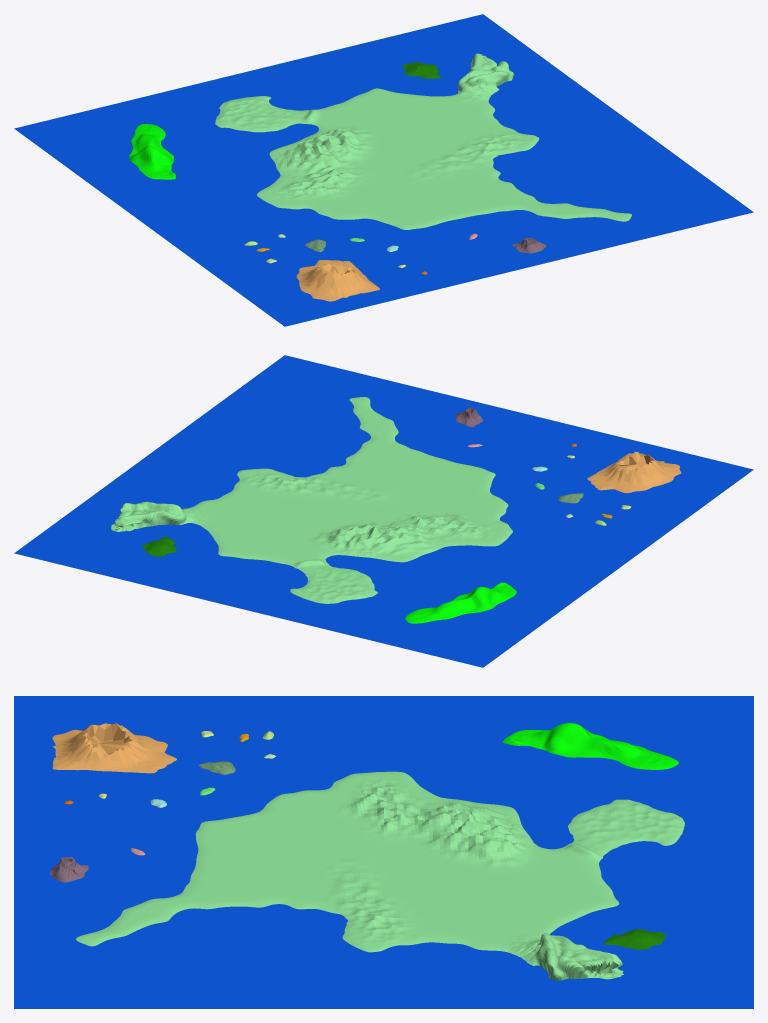
File: Map_sculpt_first_try.fbx
3 renders of one model, top to bottom at view 1: azimuth 30°, elevation 25°; view 2: azimuth 150°, elevation 25°; view 3: azimuth 270°, elevation 25°, orthographic. The views are drawn at different scales.
Visible parts, largest first — view 1: Water_level, Main_Island, Vello, Fairy_Island; view 2: Water_level, Main_Island, Vello, Fairy_Island; view 3: Water_level, Main_Island, Vello, Fairy_Island, Pahara Jizra, Novo.
Part boxes in pixels (bbox=[...]): Water_level: bbox=[14, 14, 753, 326]; Main_Island: bbox=[215, 53, 631, 229]; Vello: bbox=[296, 260, 379, 301]; Fairy_Island: bbox=[129, 124, 175, 179]; Water_level: bbox=[14, 355, 753, 667]; Main_Island: bbox=[111, 397, 512, 603]; Vello: bbox=[587, 451, 681, 493]; Fairy_Island: bbox=[405, 582, 516, 623]; Water_level: bbox=[14, 696, 753, 1008]; Main_Island: bbox=[76, 771, 684, 980]; Vello: bbox=[52, 723, 176, 773]; Fairy_Island: bbox=[502, 723, 678, 769]; Pahara Jizra: bbox=[603, 928, 666, 950]; Novo: bbox=[50, 857, 88, 882].
Bounding box in the file's own units: 500 × 23.44 × 500.
